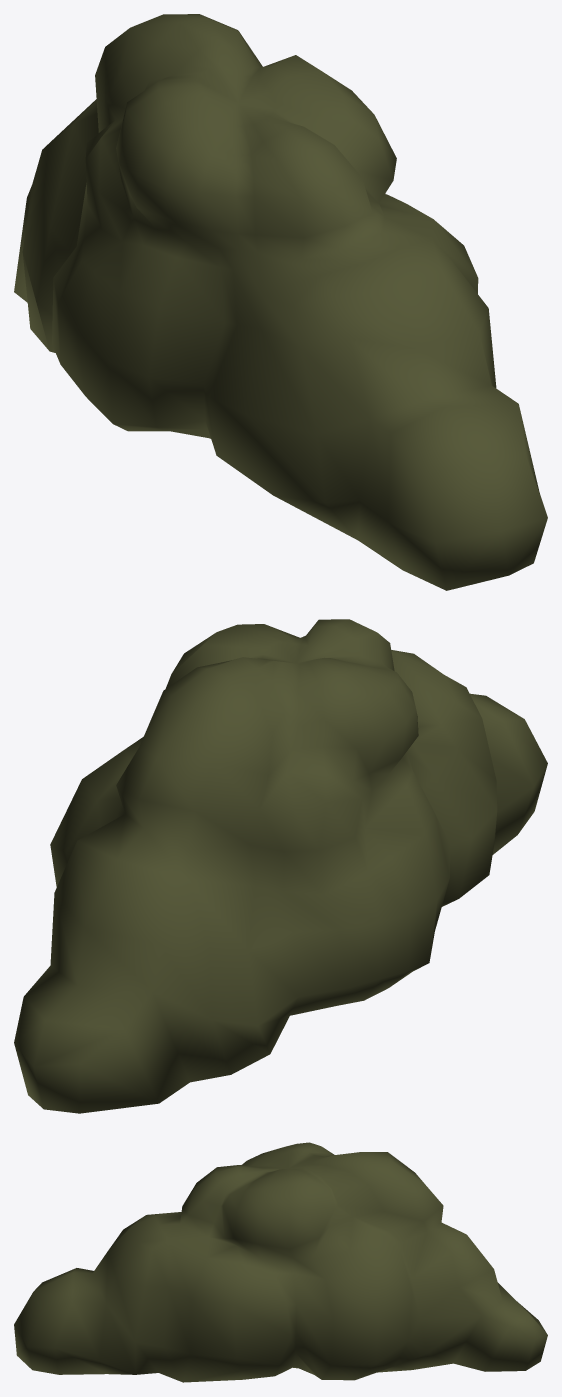
File: arbusto_G01.fbx
3 renders of one model, top to bottom at view 1: azimuth 30°, elevation 25°; view 2: azimuth 150°, elevation 25°; view 3: azimuth 270°, elevation 25°, orthographic. The views are drawn at different scales.
Visible parts, largest first — view 1: arbusto_G_1; view 2: arbusto_G_1; view 3: arbusto_G_1.
Part boxes in pixels (bbox=[...]): arbusto_G_1: bbox=[14, 14, 547, 590]; arbusto_G_1: bbox=[14, 619, 547, 1113]; arbusto_G_1: bbox=[14, 1142, 547, 1382].
Size of the model in its own units: 1661 by 681 by 690.
